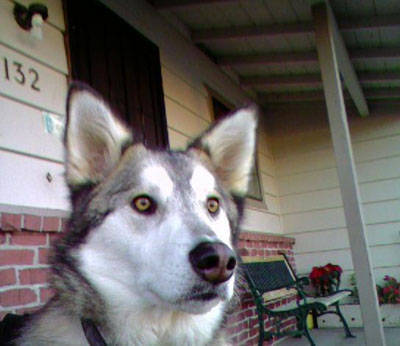dog: (1, 79, 263, 345)
